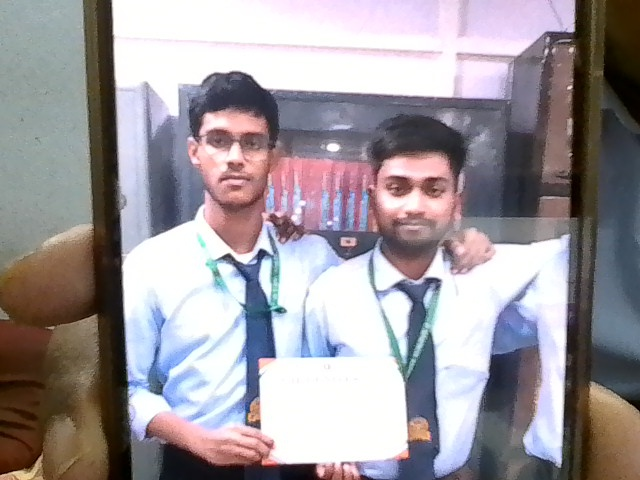real: (359, 112, 464, 261), (184, 74, 286, 218)
